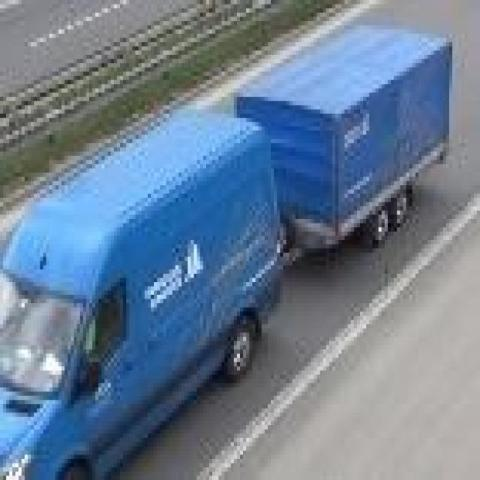van: (0, 109, 271, 480)
